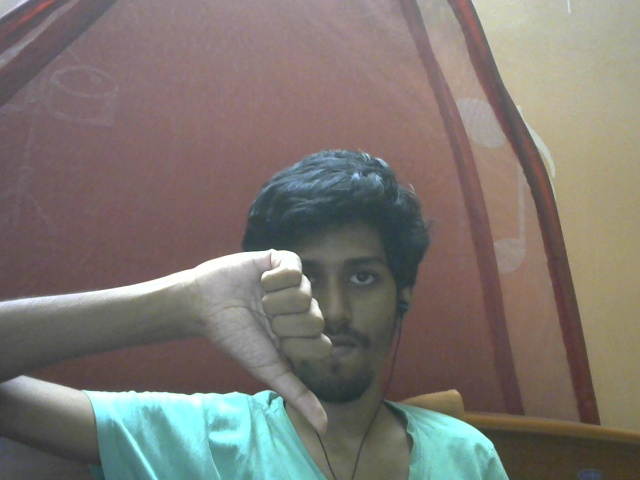ThumbsDown: (197, 248, 332, 437)
